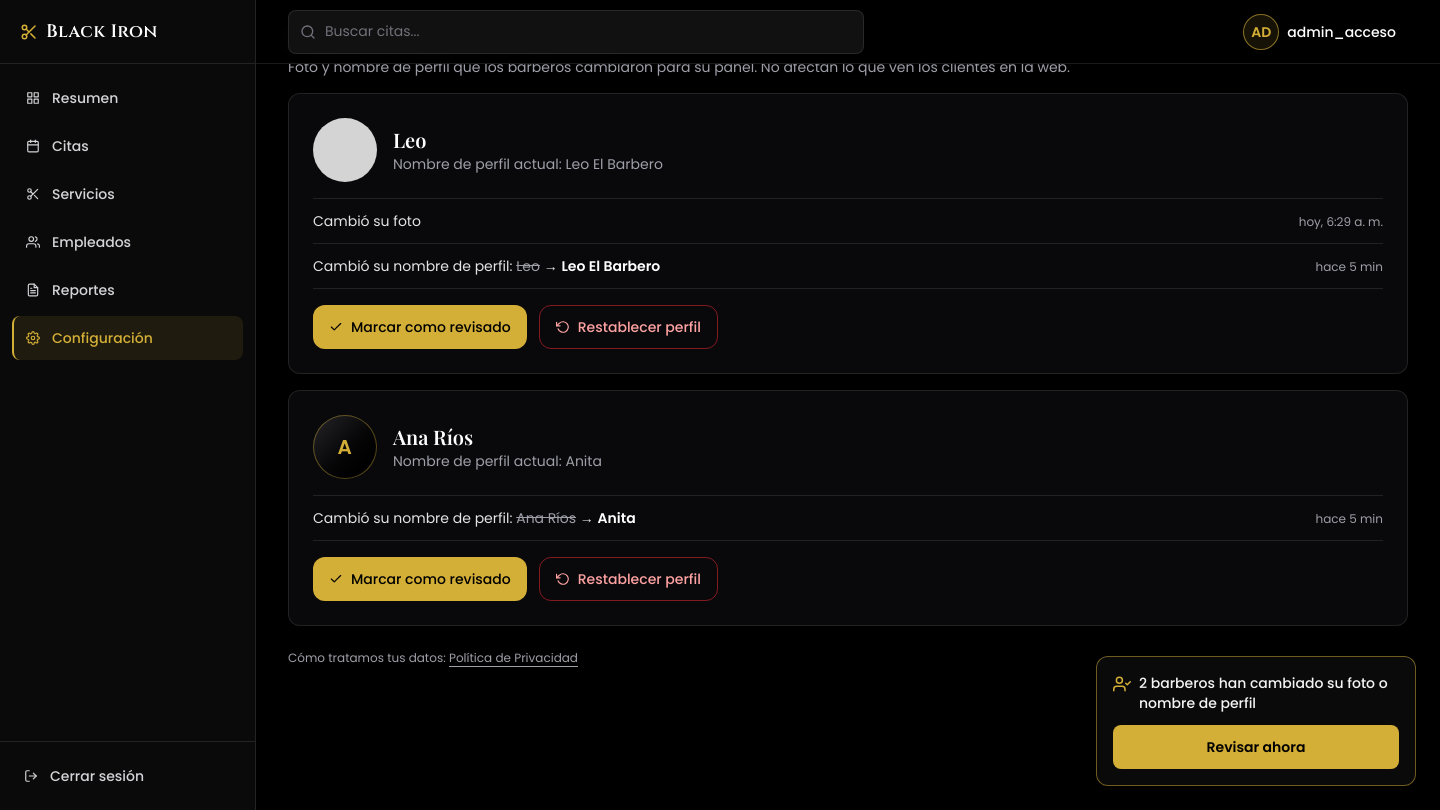
Scenario: Vista de revisión en /admin/configuracion › confirmar restablece, cierra el diálogo y actualiza la lista y el aviso
The width and height of the screenshot is (1440, 810).
(page scrolled)
Click the button with aria-label "Restablecer el perfil de Ana Ríos" at (628, 579), box x1=539 y1=557 x2=718 y2=601
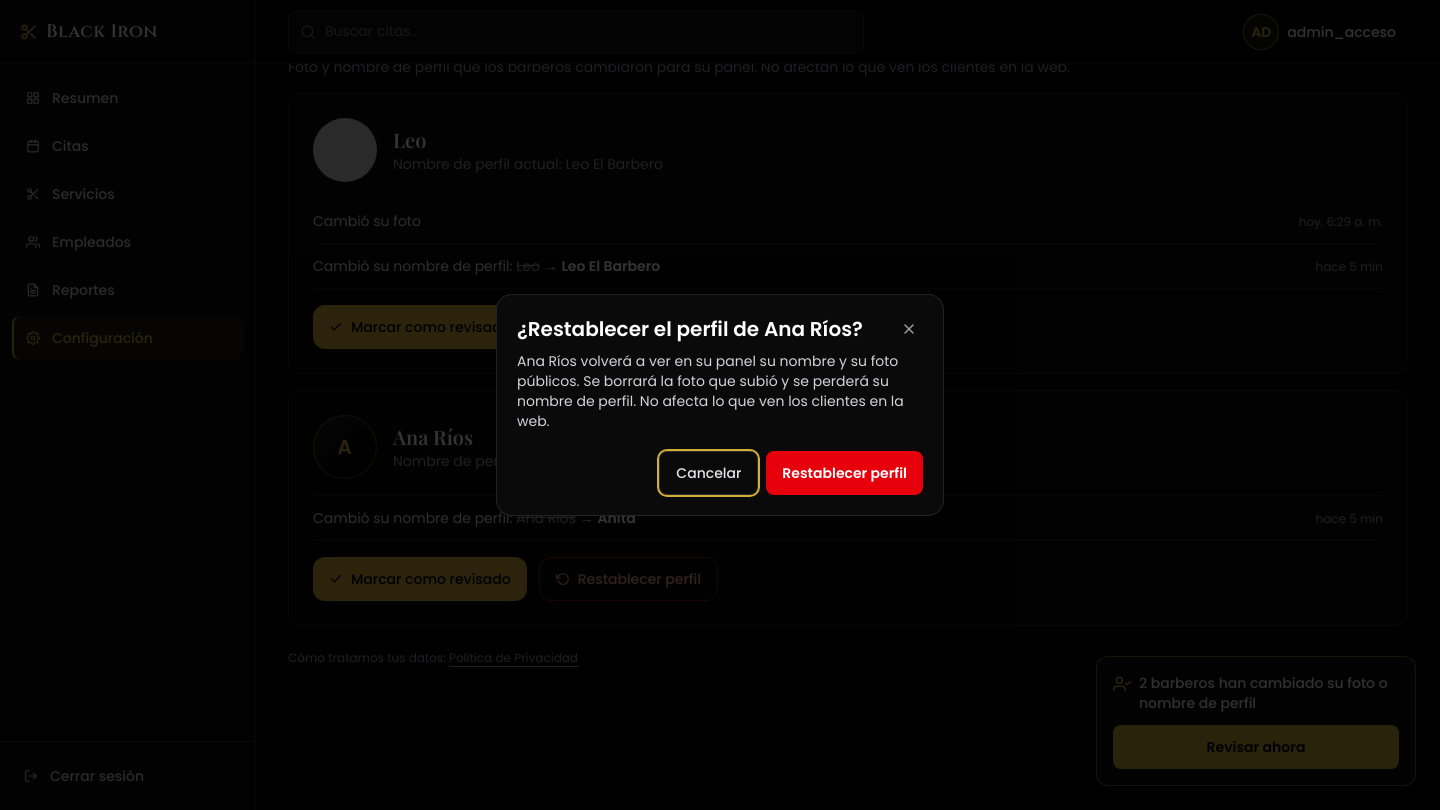
Click the button "Restablecer perfil" at (845, 473), box x1=766 y1=451 x2=923 y2=495
(page scrolled)
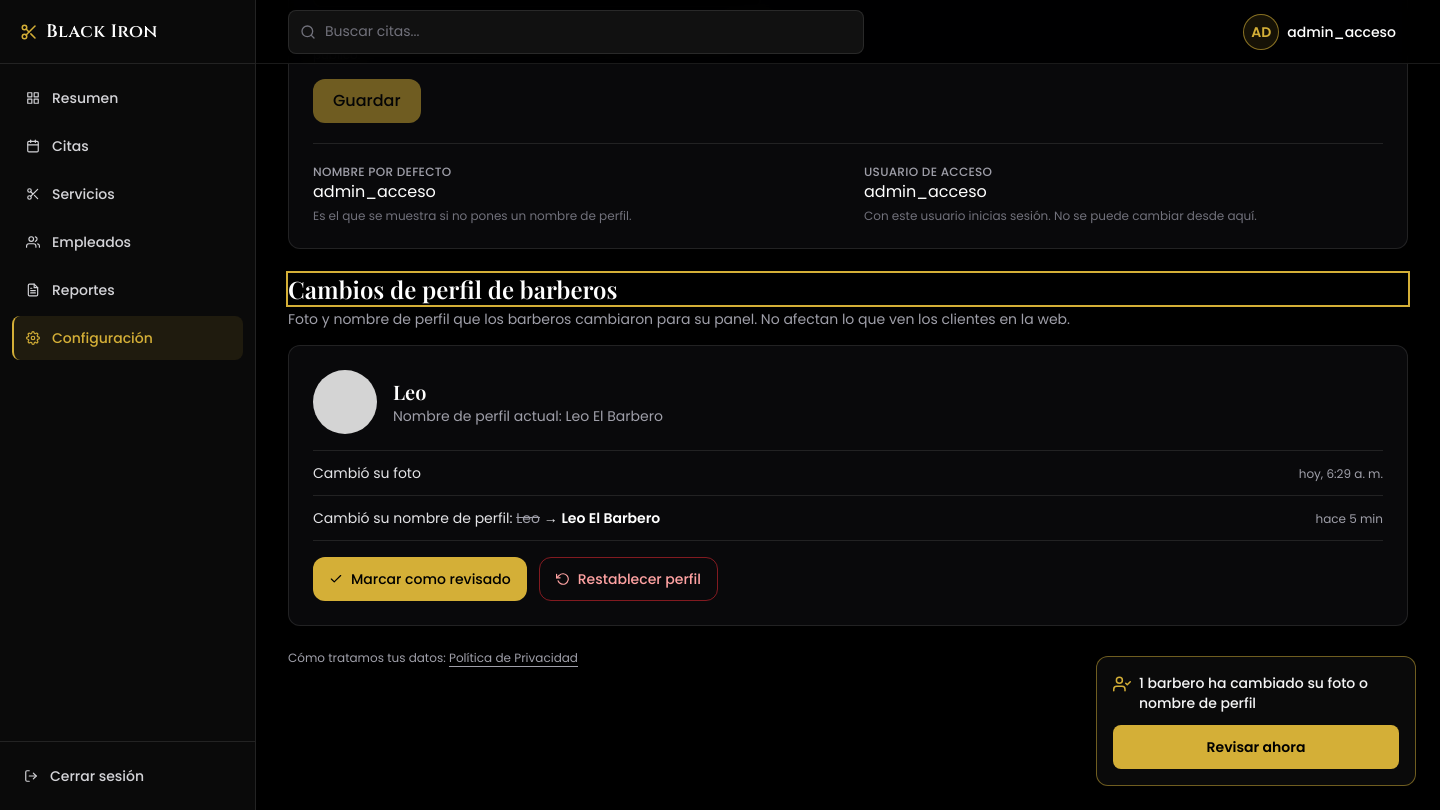
Expected: the element named "Cambios de perfil de Leo" is shown, x1=288 y1=345 x2=1408 y2=626
Now the dialog is gone
Now the text "1 barbero ha cambiado su foto o nombre de perfil" is shown, box x1=1139 y1=673 x2=1399 y2=713
